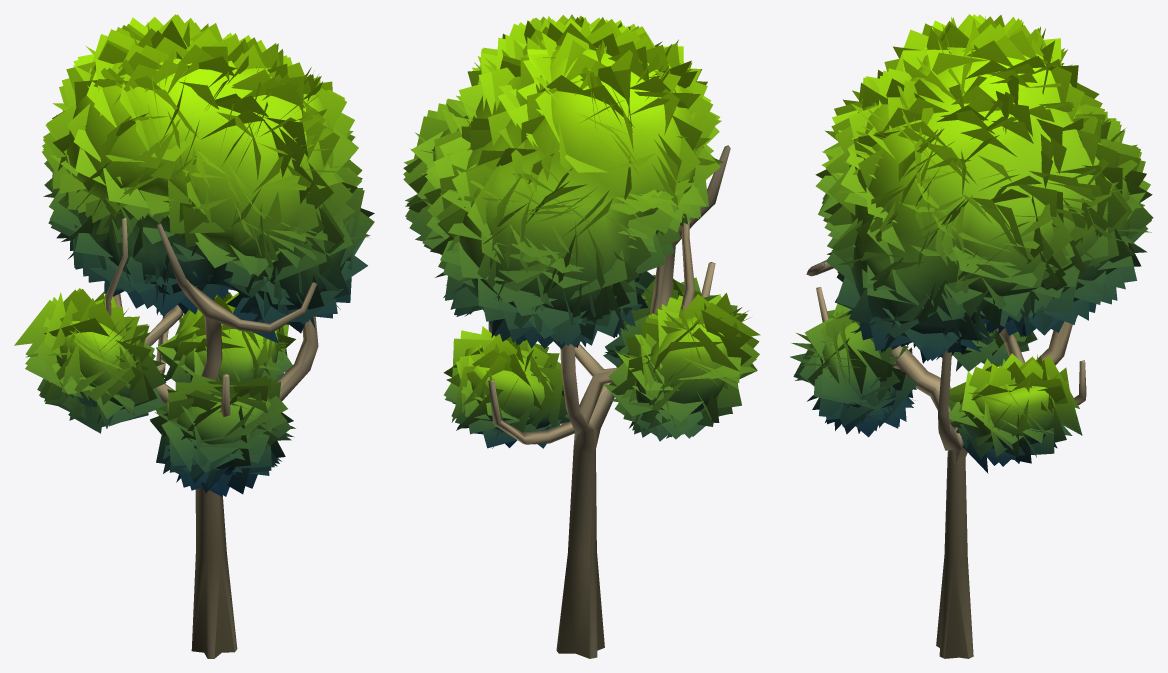
Rendered from Forest_Tree_6B.fbx.
3 renders of one model, left to right at view 1: azimuth 30°, elevation 25°; view 2: azimuth 150°, elevation 25°; view 3: azimuth 270°, elevation 25°, orthographic. The views are drawn at different scales.
Parts seen in each view (by area): view 1: Forest_Tree_6B; view 2: Forest_Tree_6B; view 3: Forest_Tree_6B.
Part boxes in pixels (x1=…): Forest_Tree_6B: x1=14, y1=14, x2=374, y2=658; Forest_Tree_6B: x1=403, y1=14, x2=760, y2=658; Forest_Tree_6B: x1=790, y1=14, x2=1153, y2=658.
Size of the model in its own units: 441 by 815 by 443.
